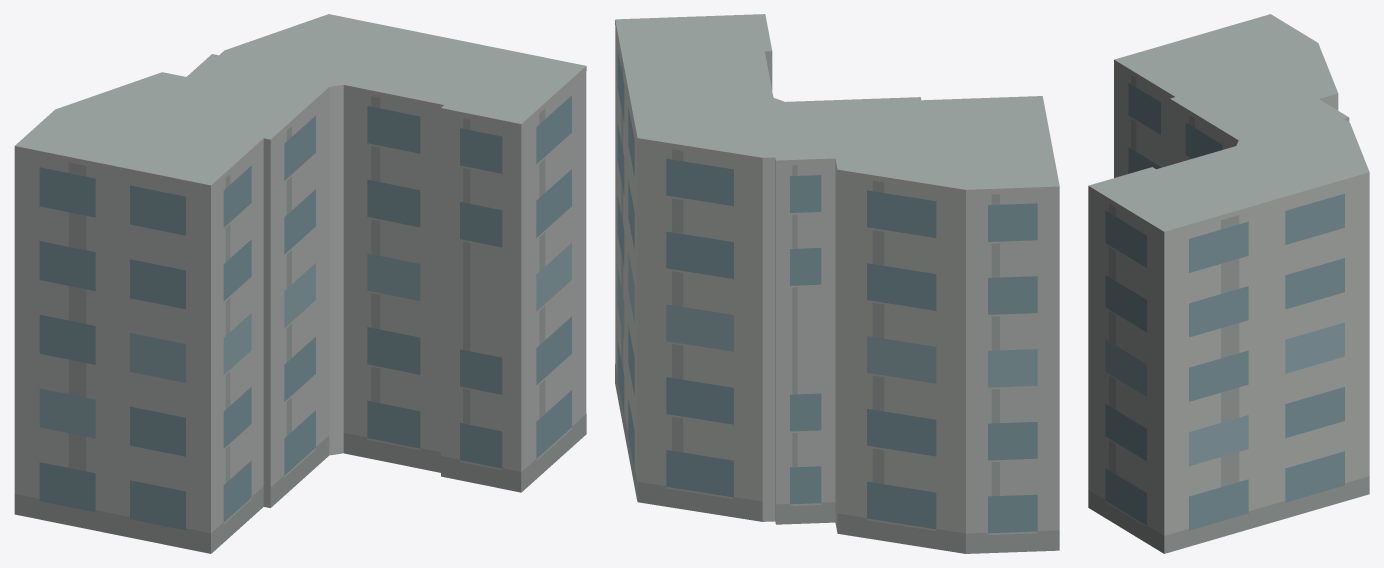
File: survey-upis-32586595.glb
The picture shows the model from 3 angles, left to right: view 1: azimuth 30°, elevation 25°; view 2: azimuth 150°, elevation 25°; view 3: azimuth 270°, elevation 25°; orthographic projection. The views are drawn at different scales.
Visible parts, largest first — view 1: survey-upis-32586595.tmp; view 2: survey-upis-32586595.tmp; view 3: survey-upis-32586595.tmp.
Boxes of the visible parts, x1=… form: survey-upis-32586595.tmp: x1=14, y1=14, x2=586, y2=553; survey-upis-32586595.tmp: x1=615, y1=14, x2=1059, y2=553; survey-upis-32586595.tmp: x1=1088, y1=14, x2=1369, y2=553.
Size of the model in its own units: 23.22 by 16 by 12.68.
